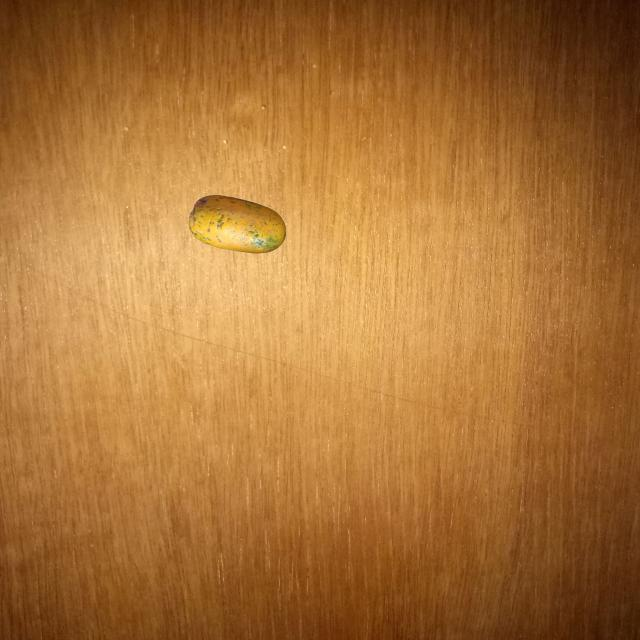Pepaya rippen: (180, 186, 294, 262)
